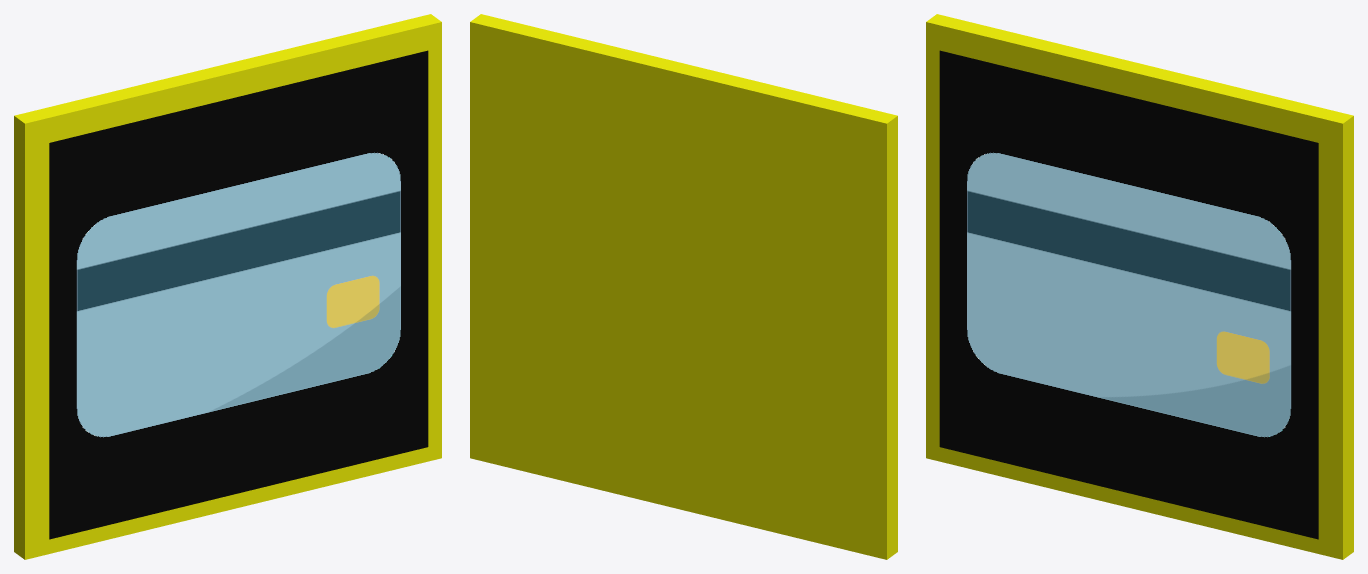
3 views of the same model, side by side, from view 1: azimuth 30°, elevation 25°; view 2: azimuth 150°, elevation 25°; view 3: azimuth 330°, elevation 25° (orthographic).
Parts seen in each view (by area): view 1: PhotoPlane, PhotoBorder; view 2: PhotoBorder; view 3: PhotoPlane, PhotoBorder.
Boxes of the visible parts, left/top/right/bottom form: PhotoPlane: left=49, top=50, right=428, bottom=539; PhotoBorder: left=14, top=14, right=441, bottom=559; PhotoBorder: left=470, top=14, right=897, bottom=559; PhotoPlane: left=939, top=50, right=1318, bottom=539; PhotoBorder: left=926, top=14, right=1353, bottom=559.
Size of the model in its own units: 11 by 11 by 0.75.
2 materials, 1 textured.
